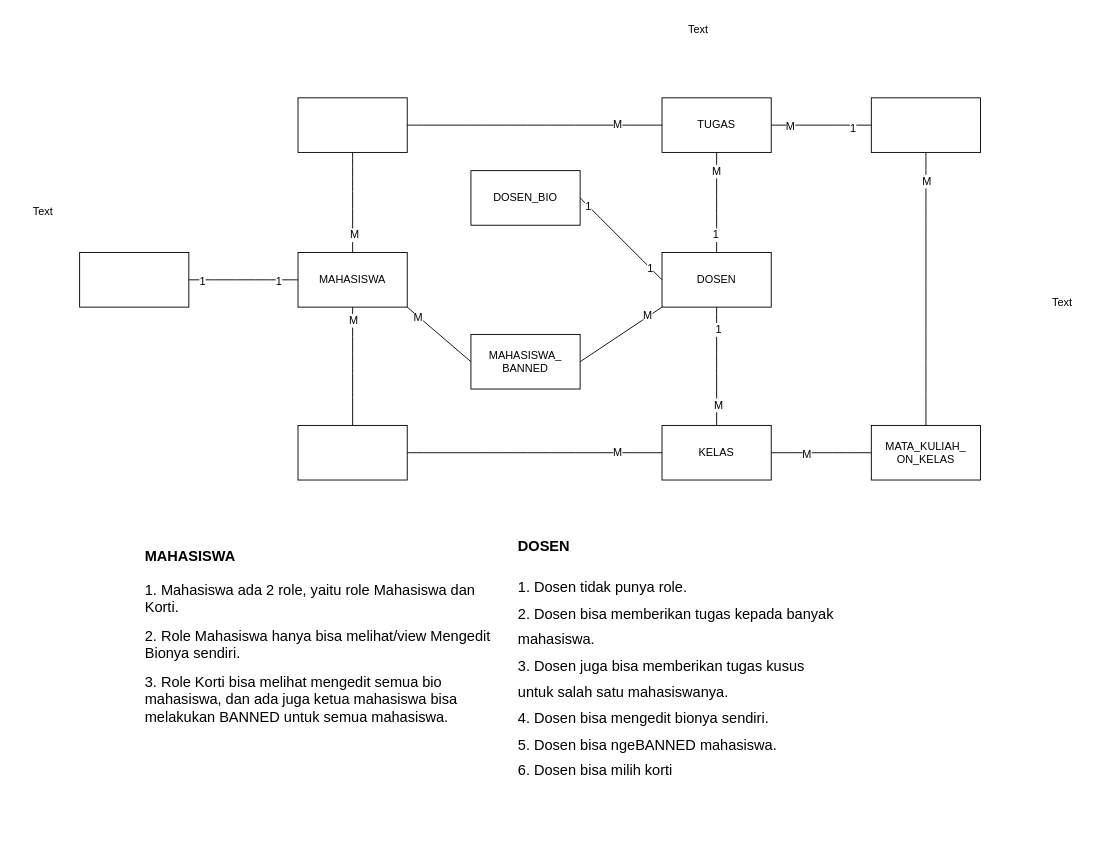
Some shapes in this 1105 by 853 pixel diagram are drawn without their labels. The shapes that lost their labels are listed below. From the top down, each one's centre as x and y in pixels, then its label:
(352,124): MAHASISWA_ ON_TUGAS
(925,124): MATA_KULIAH
(134,279): MAHASISWA_BIO
(352,452): MAHASISWA_ ON_KELAS
